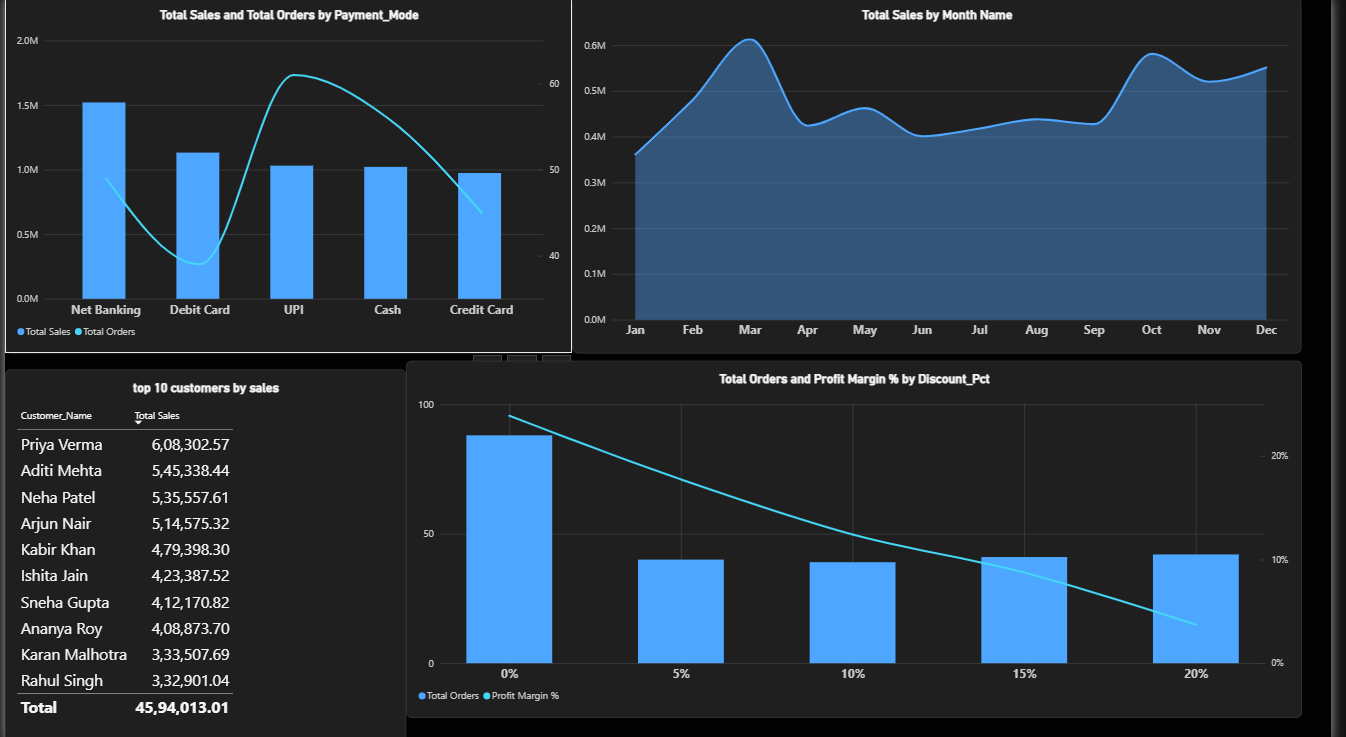

What the dashboard file says about the page in this screenshot:
{"tool":"powerbi","page":{"name":"Page 2","canvas":[1920,1080],"ordinal":1},"visuals":[{"type":"lineStackedColumnComboChart","fields":{"Category":["Sales_Data.Payment_Mode"],"Y":["Sales_Data.Total Sales"],"Y2":["Sales_Data.Total Orders"]},"box":[0,0,821.6,515.8],"z":0},{"type":"tableEx","title":"top 10 customers by sales ","fields":{"Values":["Sales_Data.Customer_Name","Sales_Data.Total Sales"]},"box":[0,539.3,580.4,541.3],"z":1},{"type":"lineClusteredColumnComboChart","fields":{"Category":["Sales_Data.Discount_Pct"],"Y":["Sales_Data.Total Orders"],"Y2":["Sales_Data.Profit Margin %"]},"box":[580.4,526.9,1296.7,516.6],"z":2},{"type":"stackedAreaChart","fields":{"Category":["DateTable.Month Name"],"Y":["Sales_Data.Total Sales"]},"box":[822,0,1055,516],"z":3}]}

Visuals, with their boxes in screenshot pixels (x1, y1, x2, y2), scaled from the page's 1920x1080 canvas onto the 1346x737 screenshot:
lineStackedColumnComboChart - Sales_Data.Payment_Mode x Sales_Data.Total Sales: l=0, t=0, r=576, b=352
"top 10 customers by sales " tableEx: l=0, t=368, r=407, b=736
lineClusteredColumnComboChart - Sales_Data.Discount_Pct x Sales_Data.Total Orders: l=407, t=360, r=1316, b=712
stackedAreaChart - DateTable.Month Name x Sales_Data.Total Sales: l=576, t=0, r=1316, b=352
